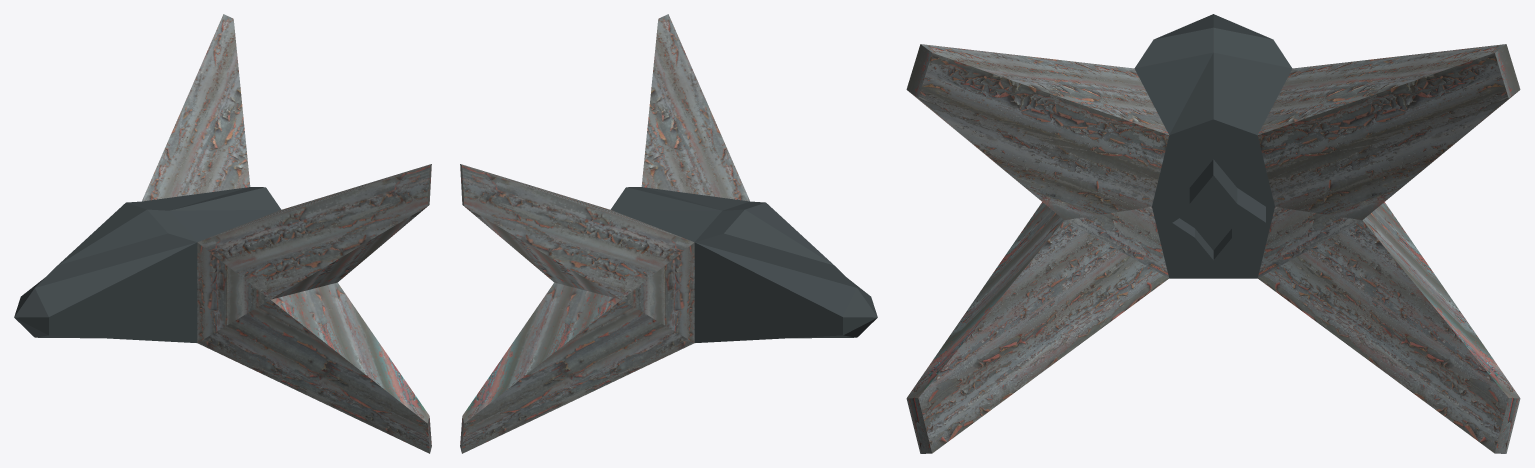
The model's file is test_enemy.glb.
3 views of the same model, side by side, from view 1: azimuth 30°, elevation 25°; view 2: azimuth 150°, elevation 25°; view 3: azimuth 270°, elevation 25° (orthographic). The views are drawn at different scales.
Parts seen in each view (by area): view 1: Cube.003, Cube.001, Cube.002; view 2: Cube.003, Cube.001, Cube.002; view 3: Cube.003, Cube.001, Cube, Cube.002.
Boxes of the visible parts, x1,y1,x2,y2 form: Cube.003: [142, 14, 431, 453]; Cube.001: [14, 187, 281, 342]; Cube.002: [35, 201, 196, 287]; Cube.003: [460, 14, 749, 453]; Cube.001: [610, 187, 877, 342]; Cube.002: [695, 201, 856, 287]; Cube.003: [906, 44, 1520, 453]; Cube.001: [1134, 52, 1292, 278]; Cube: [1161, 159, 1265, 270]; Cube.002: [1135, 14, 1291, 68].
Bounding box in the file's own units: 6.61 × 5.72 × 7.77.
4 materials, 1 textured.
